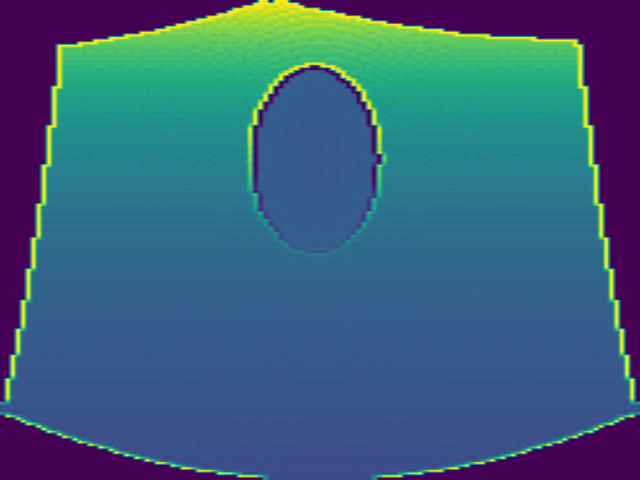sphere: (247, 62, 386, 253)
